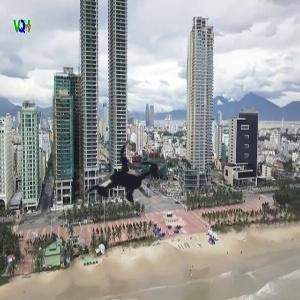drone: (55, 110, 190, 245)
